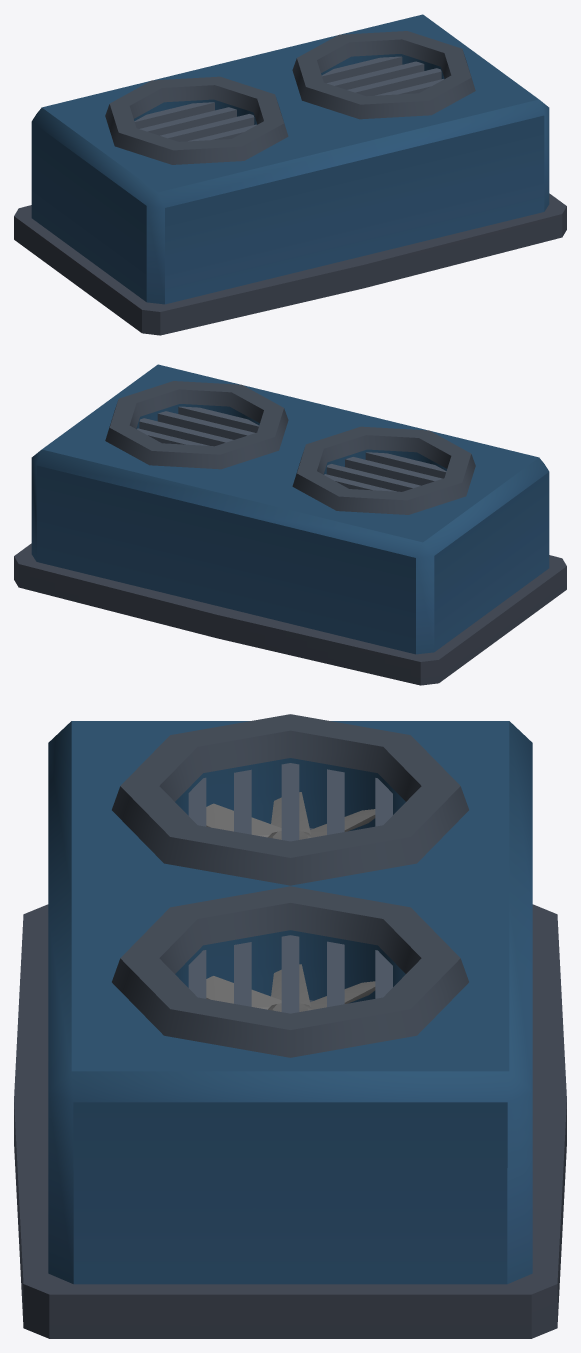
The model's file is Vent_3_C.fbx.
The picture shows the model from 3 angles, top to bottom: view 1: azimuth 30°, elevation 25°; view 2: azimuth 150°, elevation 25°; view 3: azimuth 270°, elevation 25°; orthographic projection. The views are drawn at different scales.
Parts seen in each view (by area): view 1: Vent_3_C; view 2: Vent_3_C; view 3: Vent_3_C, TFan_A.001, TFan_A.
Boxes of the visible parts, <box> form: Vent_3_C: <box>14,14,566,335</box>; Vent_3_C: <box>14,364,566,685</box>; Vent_3_C: <box>14,714,566,1338</box>; TFan_A.001: <box>206,792,375,839</box>; TFan_A: <box>206,964,375,1011</box>.
Size of the model in its own units: 3.23 by 1.05 by 1.93.
